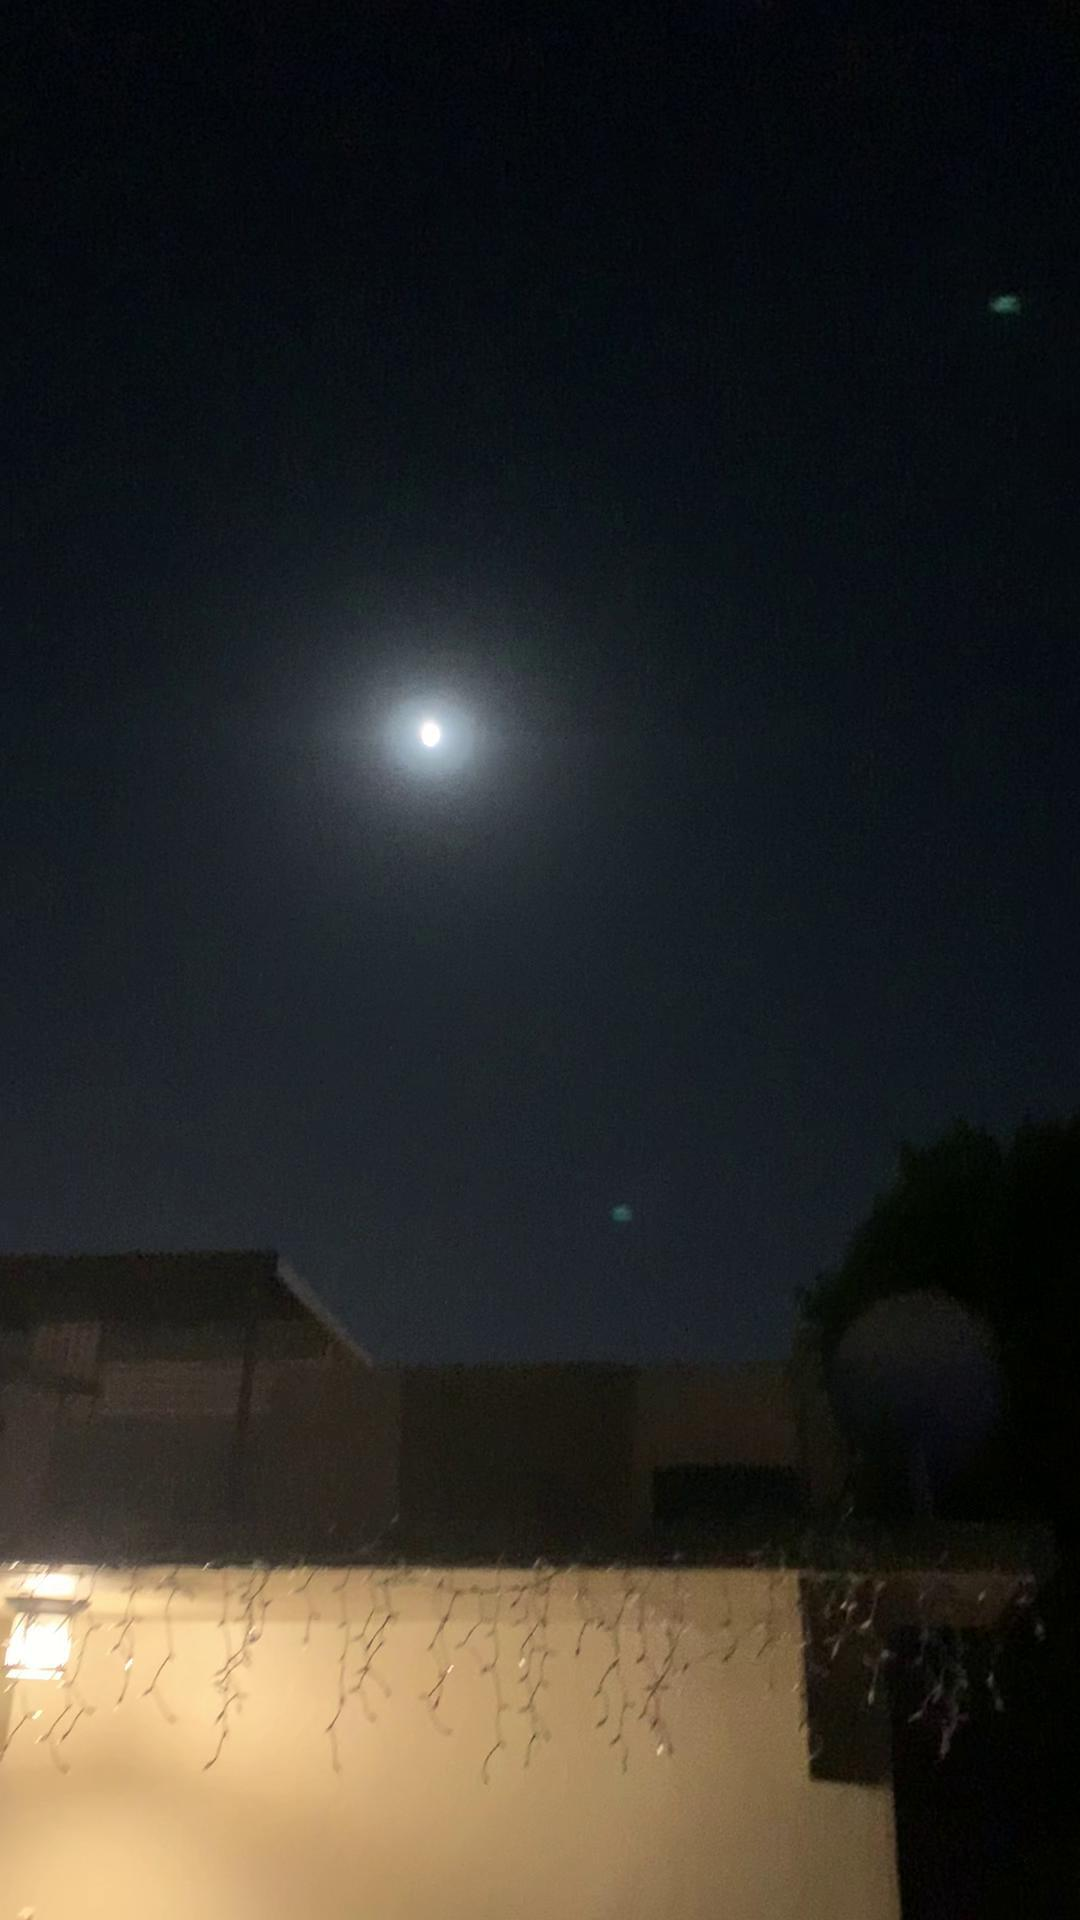moon: (394, 691, 481, 770)
